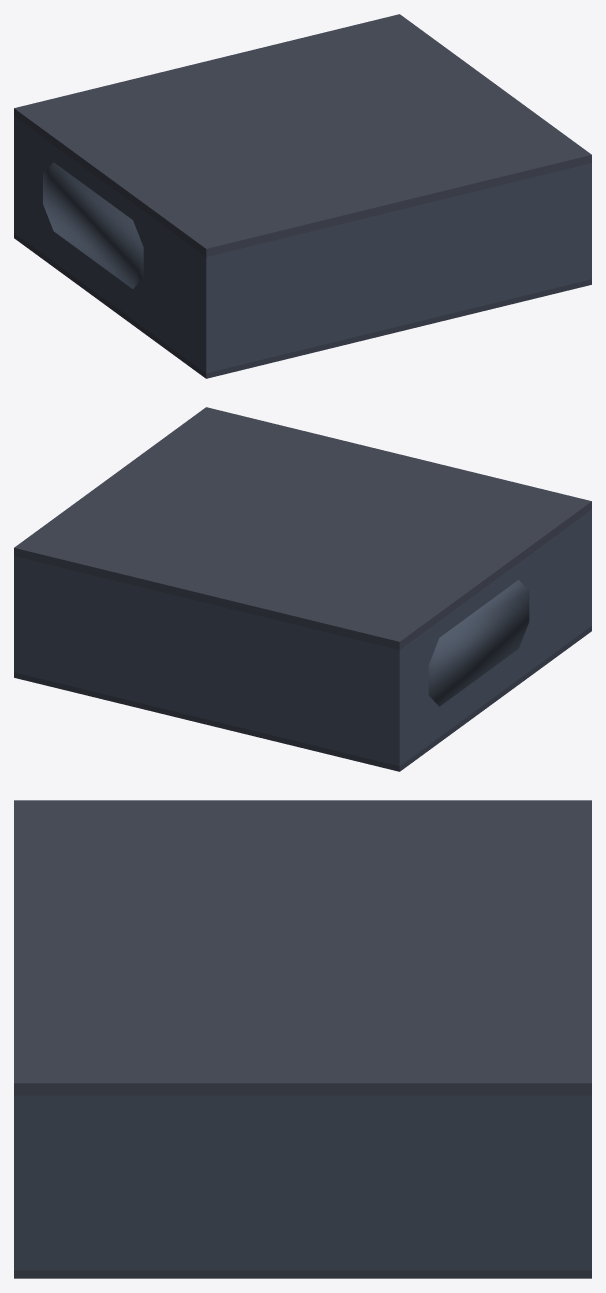
File: Monitoring Room.glb
3 renders of one model, top to bottom at view 1: azimuth 30°, elevation 25°; view 2: azimuth 150°, elevation 25°; view 3: azimuth 270°, elevation 25°, orthographic. The views are drawn at different scales.
Parts seen in each view (by area): view 1: SR_Ceiling, SR_WallFront, SR_WallLeft, SR_Floor, SR_WallBack; view 2: SR_Ceiling, SR_WallBack, SR_WallLeft, SR_Floor, SR_WallFront; view 3: SR_Ceiling, SR_WallRight, SR_Floor, SR_WallBack, SR_WallFront.
Boxes of the visible parts, x1,y1,x2,y2 form: SR_Ceiling: [14, 14, 591, 256]; SR_WallFront: [201, 163, 591, 373]; SR_WallLeft: [18, 120, 201, 369]; SR_Floor: [14, 233, 591, 378]; SR_WallBack: [14, 117, 18, 235]; SR_Ceiling: [14, 407, 591, 649]; SR_WallBack: [14, 556, 404, 766]; SR_WallLeft: [404, 513, 587, 762]; SR_Floor: [14, 626, 591, 771]; SR_WallFront: [587, 510, 591, 628]; SR_Ceiling: [14, 800, 591, 1095]; SR_WallRight: [27, 1095, 578, 1270]; SR_Floor: [14, 1270, 591, 1278]; SR_WallBack: [578, 1095, 591, 1270]; SR_WallFront: [14, 1095, 27, 1270].
Bounding box in the file's own units: 14.6 × 4.7 × 12.6.
